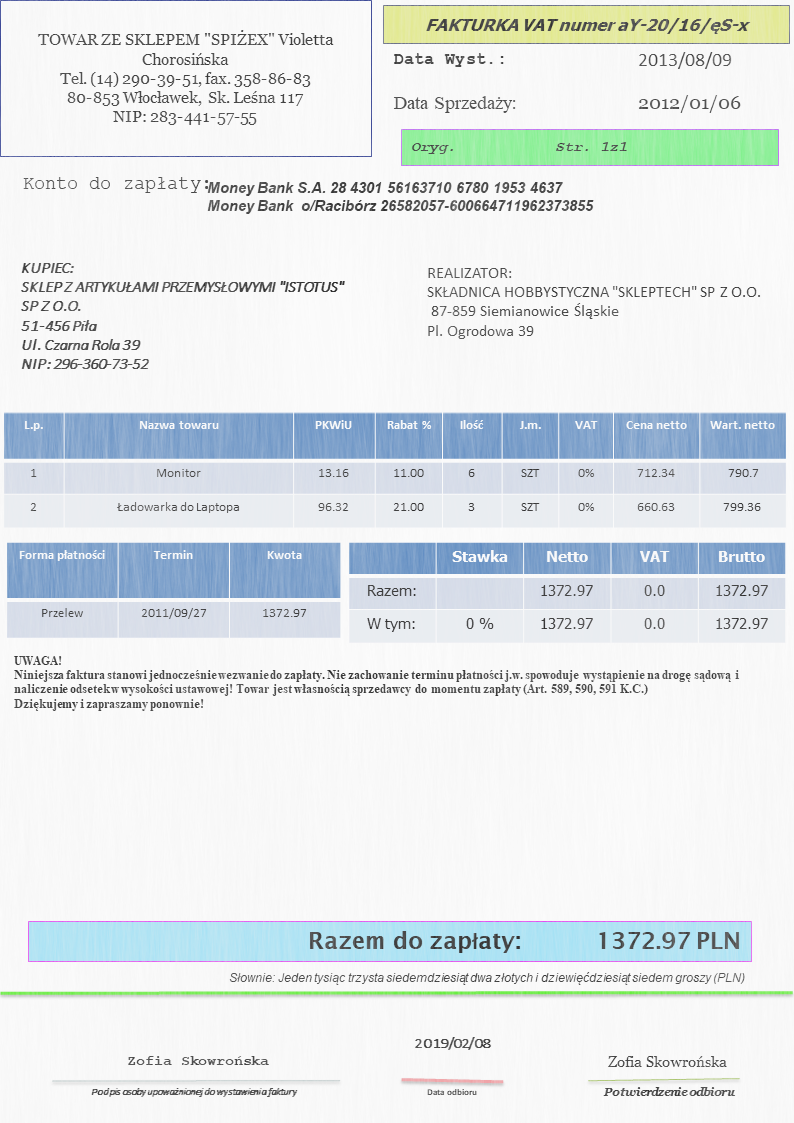Table: (2, 409, 789, 529), (347, 540, 788, 646), (5, 540, 343, 640)
TextBox: (9, 648, 745, 714), (17, 258, 349, 377), (30, 26, 339, 132), (421, 261, 764, 343), (303, 921, 742, 958), (202, 178, 597, 215), (225, 967, 747, 987), (423, 10, 757, 36), (408, 133, 632, 157), (18, 173, 210, 196), (88, 1084, 301, 1098), (388, 91, 517, 114), (388, 46, 508, 70), (124, 1051, 272, 1069), (633, 90, 743, 114), (635, 46, 736, 72), (605, 1051, 734, 1071), (599, 1085, 738, 1099), (411, 1032, 495, 1052), (423, 1083, 480, 1102)
